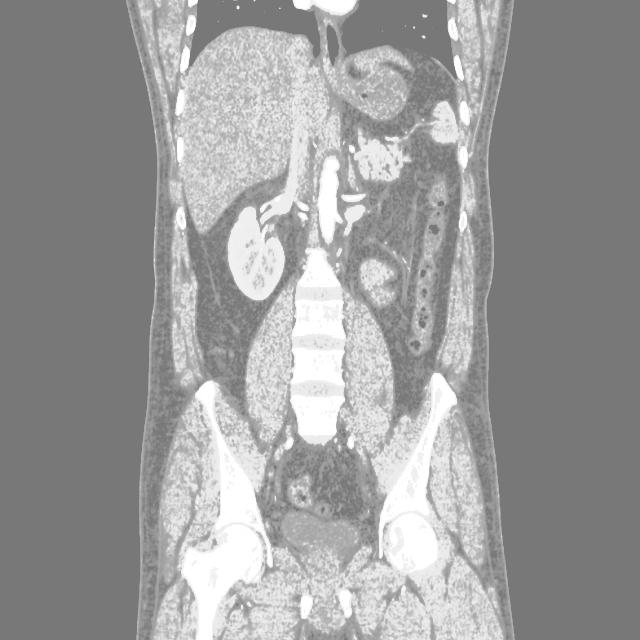NORMAL: (66, 26, 559, 614)
